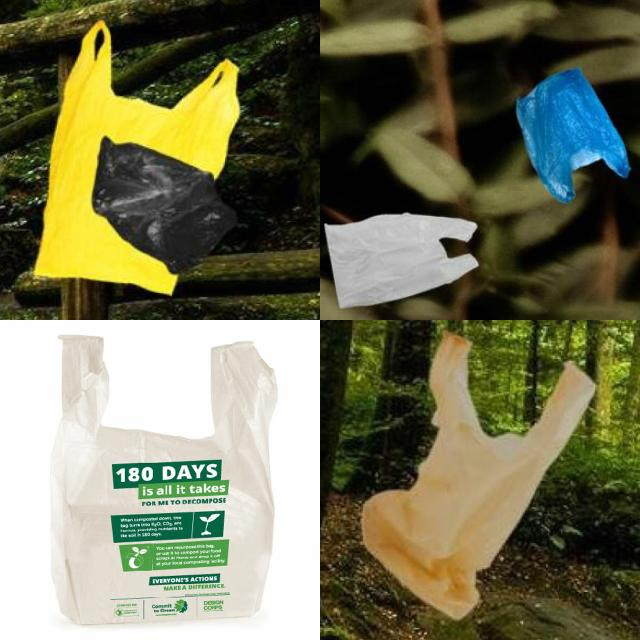Single-layer Plastic: (362, 334, 595, 619), (51, 335, 276, 624), (35, 21, 240, 294), (92, 138, 236, 273), (516, 69, 630, 202), (325, 212, 479, 308)
